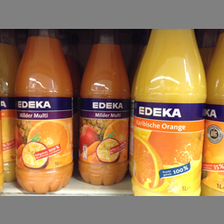juice: (132, 28, 206, 195), (13, 30, 74, 193), (78, 30, 131, 184)
